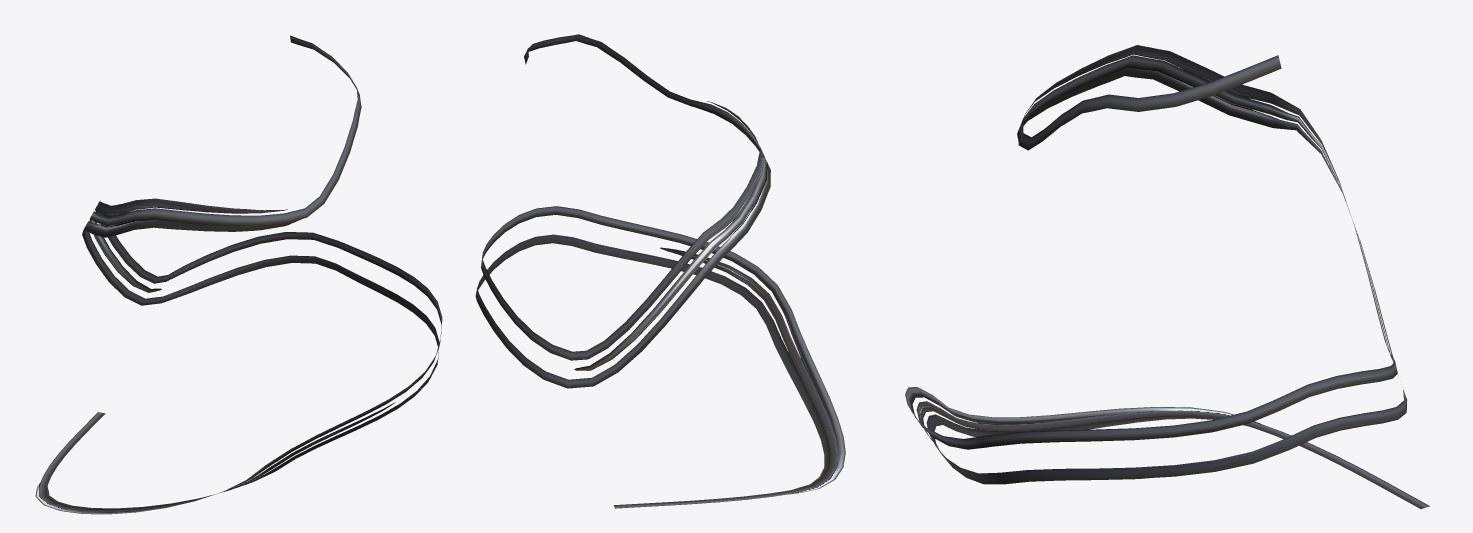
File: luoxuan_008.FBX
3 renders of one model, left to right at view 1: azimuth 30°, elevation 25°; view 2: azimuth 150°, elevation 25°; view 3: azimuth 270°, elevation 25°, orthographic. The views are drawn at different scales.
Visible parts, largest first — view 1: luoxuan_008; view 2: luoxuan_008; view 3: luoxuan_008.
Part boxes in pixels (x1,y1,x2,y2): luoxuan_008: (35,35,442,514); luoxuan_008: (475,34,845,508); luoxuan_008: (905,45,1429,508).
Bounding box in the file's own units: 27.72 × 29.22 × 25.64.
